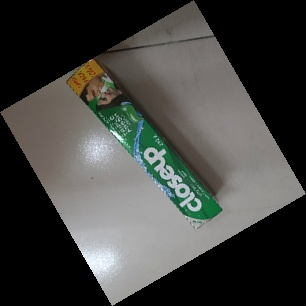CloseUp Xanh: (64, 58, 222, 231)
